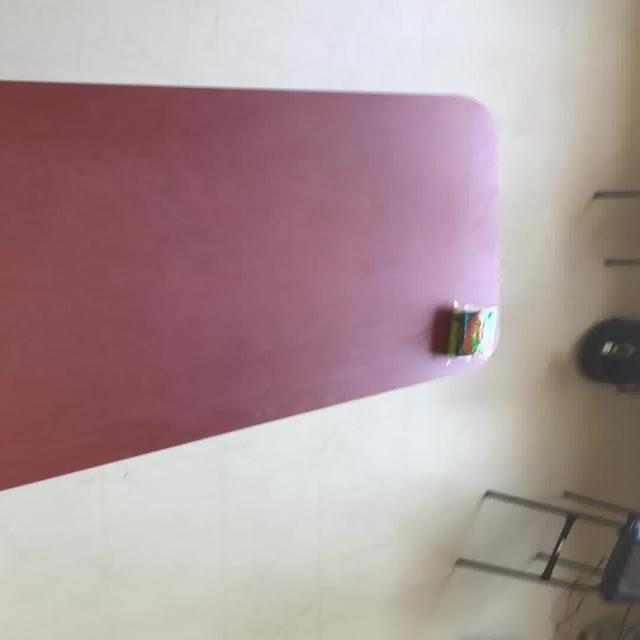sponge: (443, 299, 498, 358)
